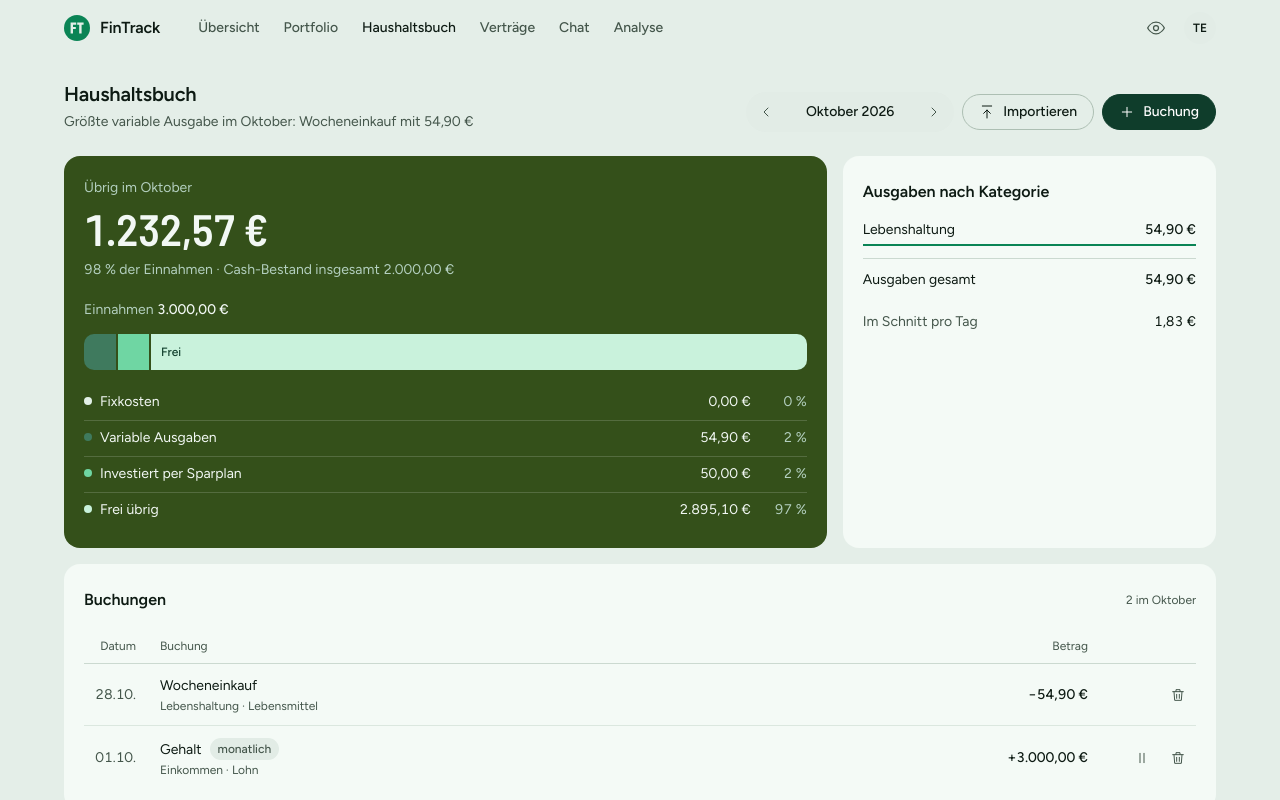
Test: Umsätze importieren › ist aus dem Haushaltsbuch erreichbar
Click the link "Importieren": point(1028, 112) x1=962 y1=94 x2=1094 y2=130
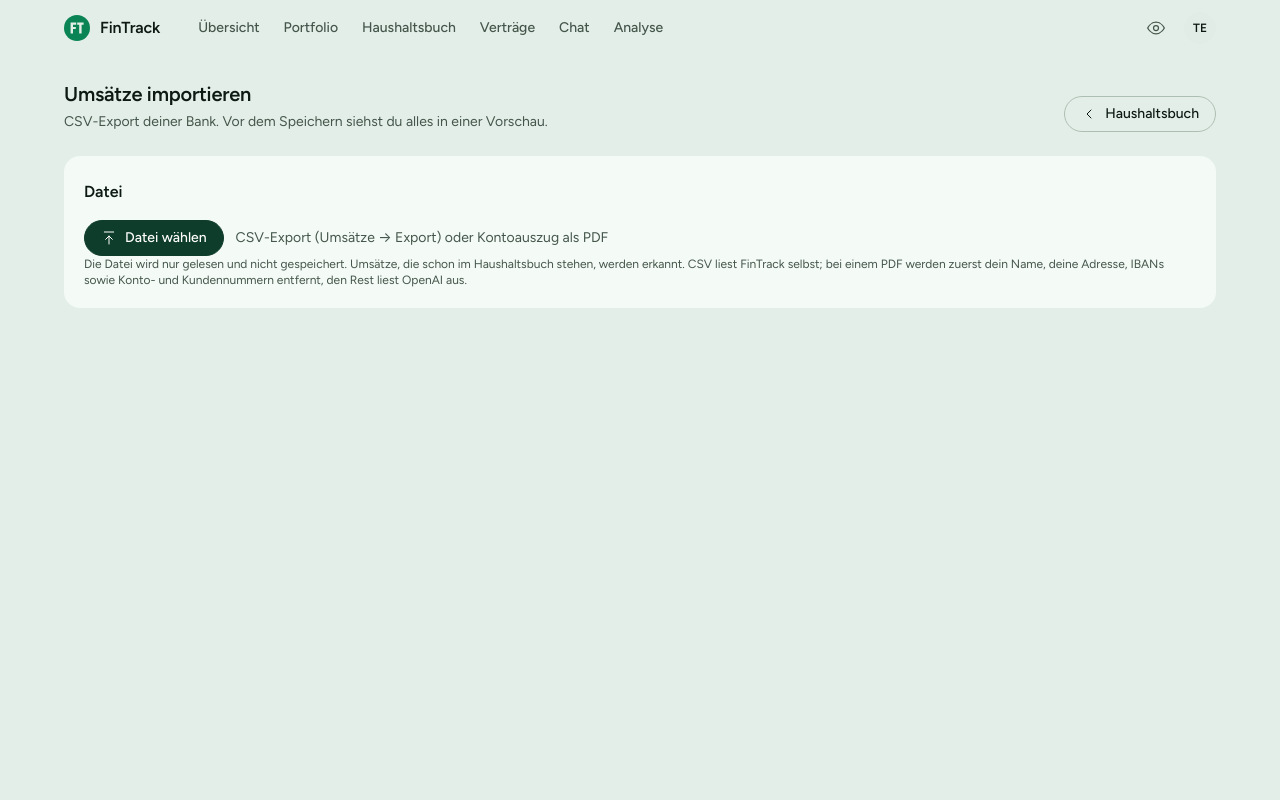
Check: the heading "Umsätze importieren" is shown, box x1=64 y1=82 x2=251 y2=106
